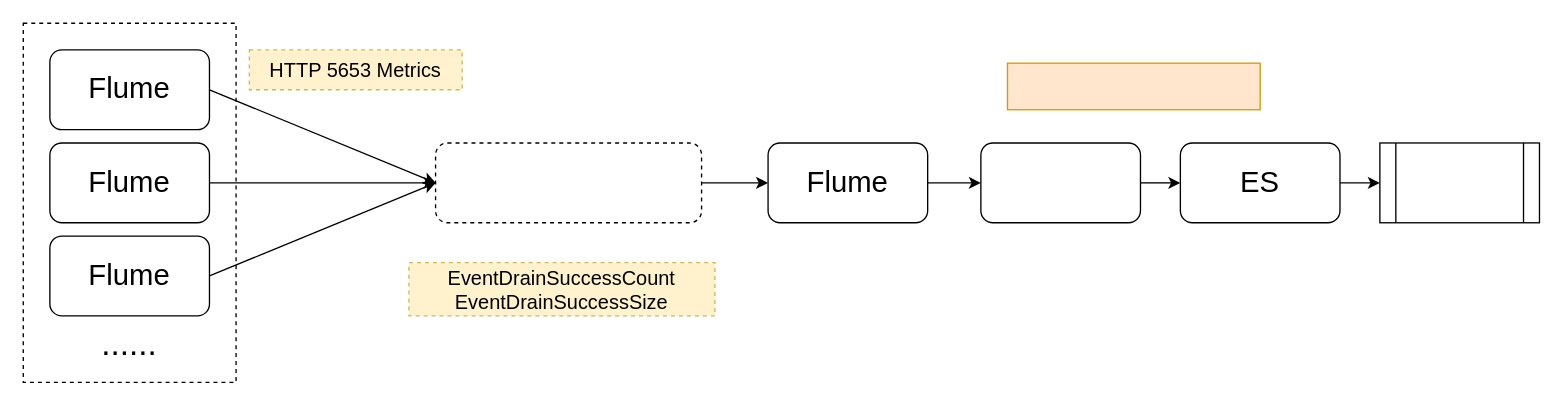
The diagram is 1563 pixels wide and 406 high, and some of its shapes have lost their labels. The centre of each missing label's shape, as x and y in pixels:
"GLOG System" belongs at point (1133, 86).
"Kafka" belongs at point (1060, 182).
"Kibana" belongs at point (1459, 182).
"rtc-flume-monitor" belongs at point (568, 182).
